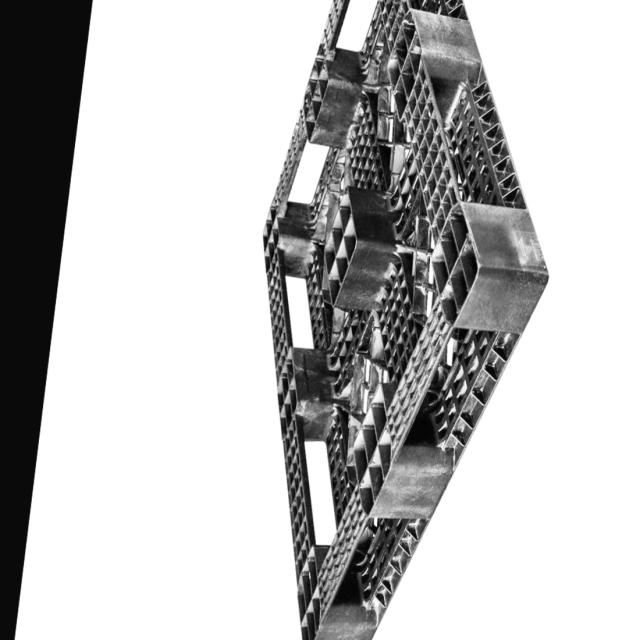non-igps: (255, 0, 555, 640)
